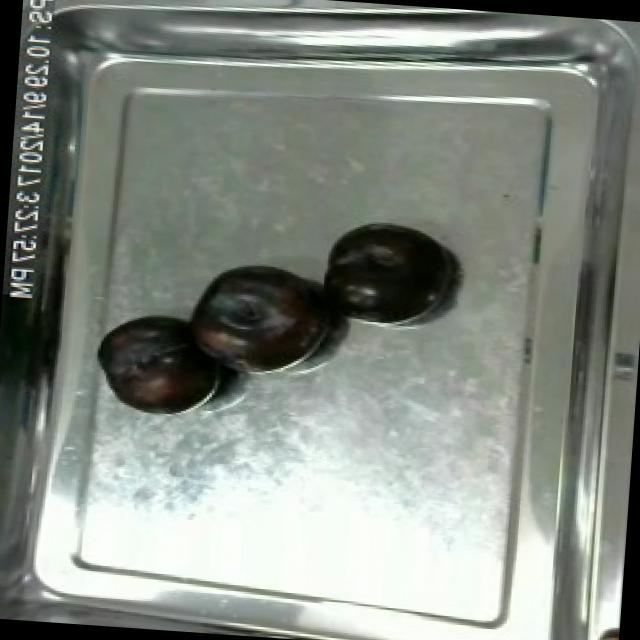Fruit: (180, 254, 334, 378), (87, 306, 228, 419), (312, 214, 453, 327), (577, 616, 620, 640)
